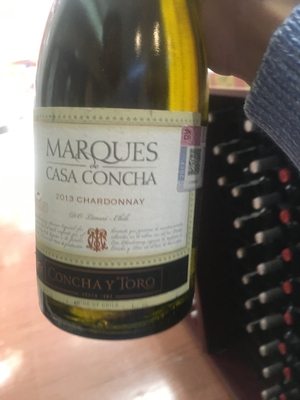marques de casa concha chardonnay: (25, 4, 212, 329)
